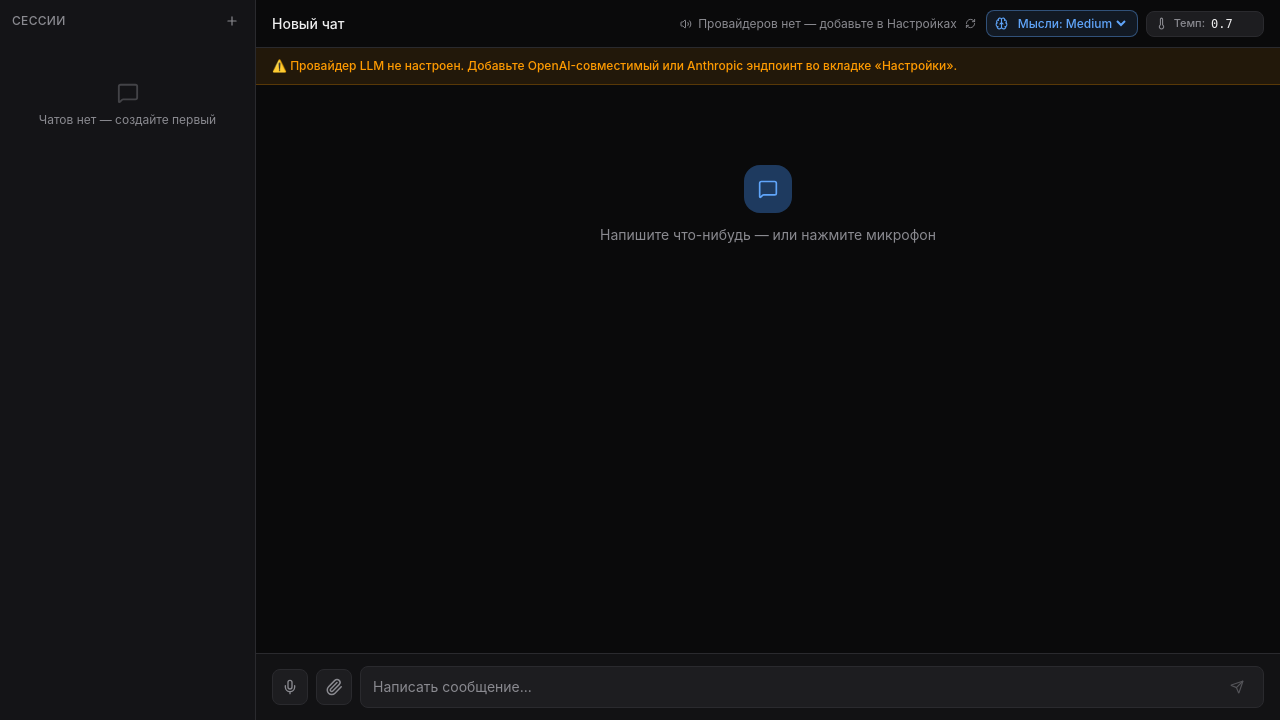
ChatTab Reasoning Effort Controls & Model Capabilities › forwards reasoningEffort to sendBackendMessage on user send
This screenshot has width=1280, height=720.
Select "Мысли: High" in the dropdown with test id "reasoning-effort-select" at (1071,24), box left=1014, top=15, right=1129, bottom=32
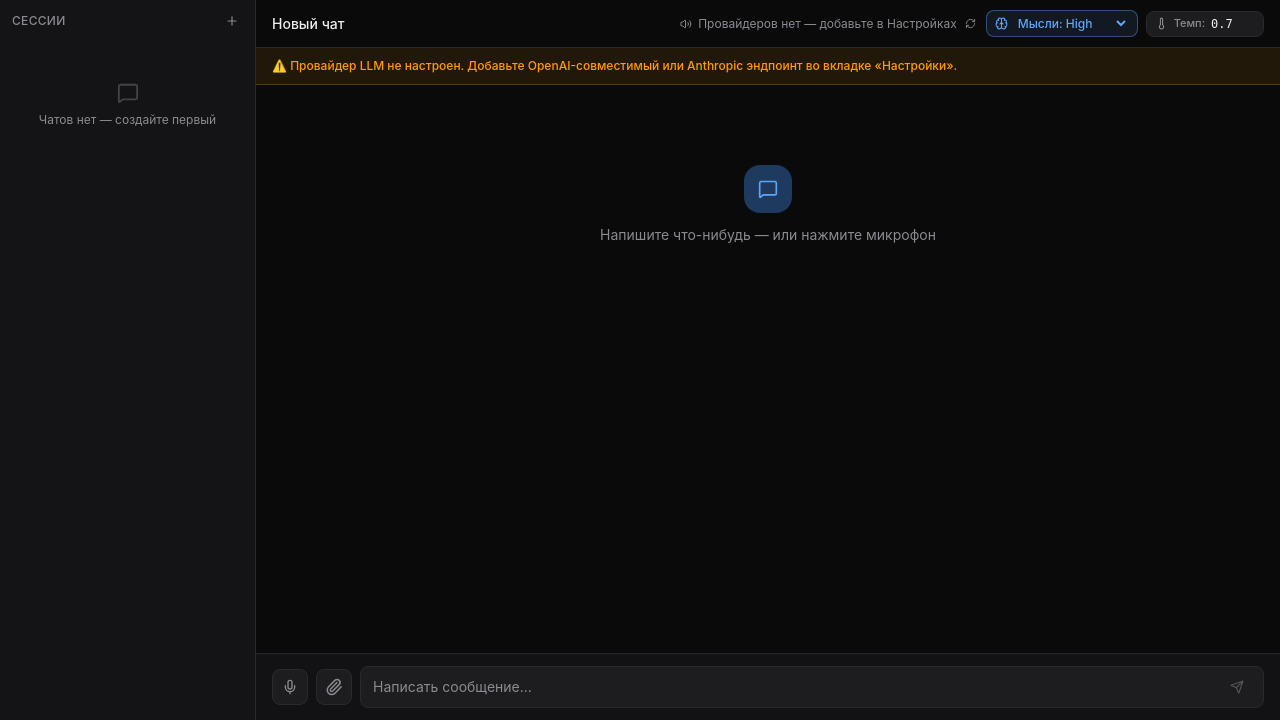
Type "Сложная математическая задача" into the field with placeholder "Написать сообщение...".
click(794, 687); type("Сложная математическая задача")  # box left=373, top=677, right=1215, bottom=697
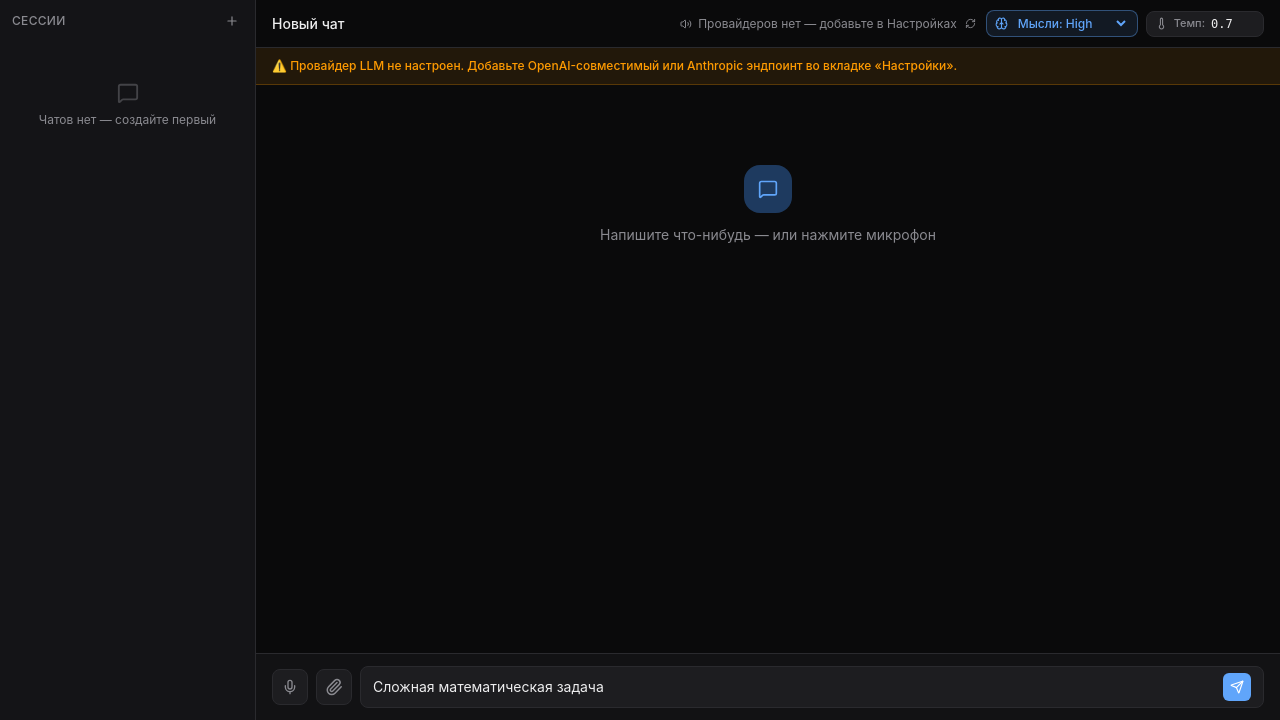
Click the button titled "Отправить".
click(1237, 687)  # box left=1223, top=673, right=1251, bottom=701
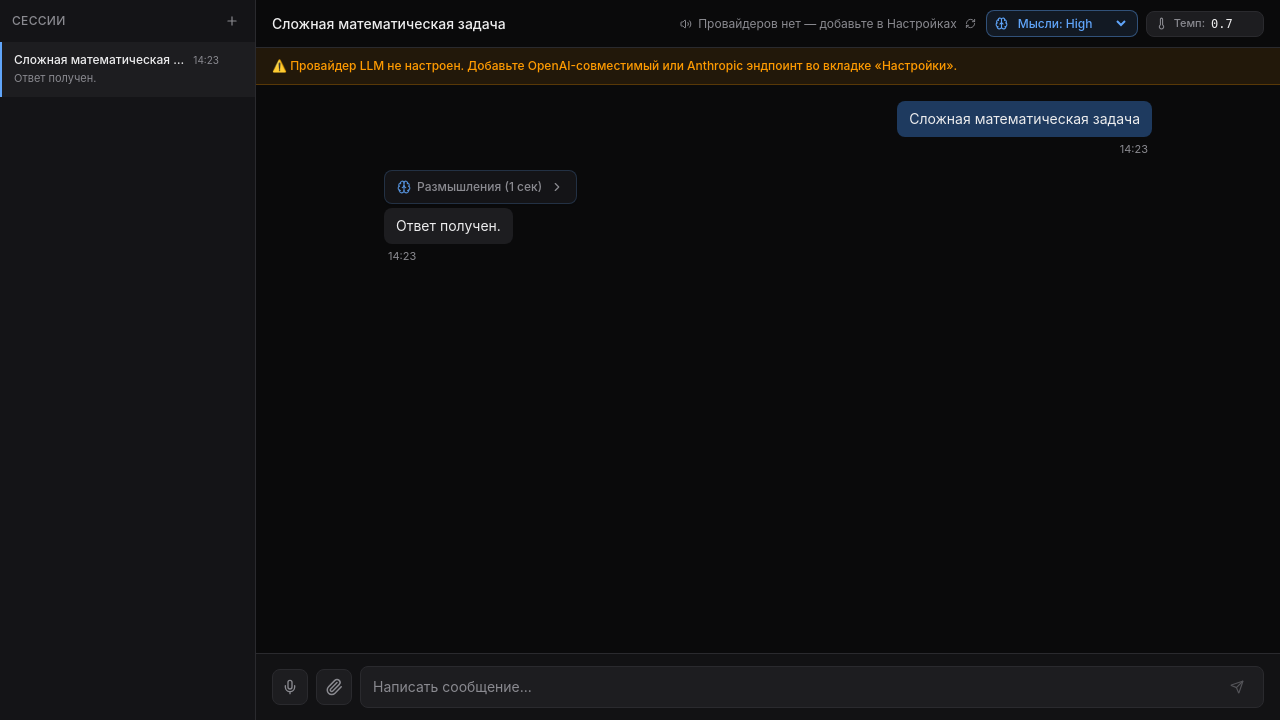
Result: the text "Сложная математическая задача" below "СЕССИИ" is shown at left=14, top=52, right=214, bottom=67
